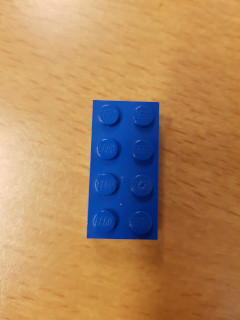2x4 blue: (87, 97, 163, 243)
